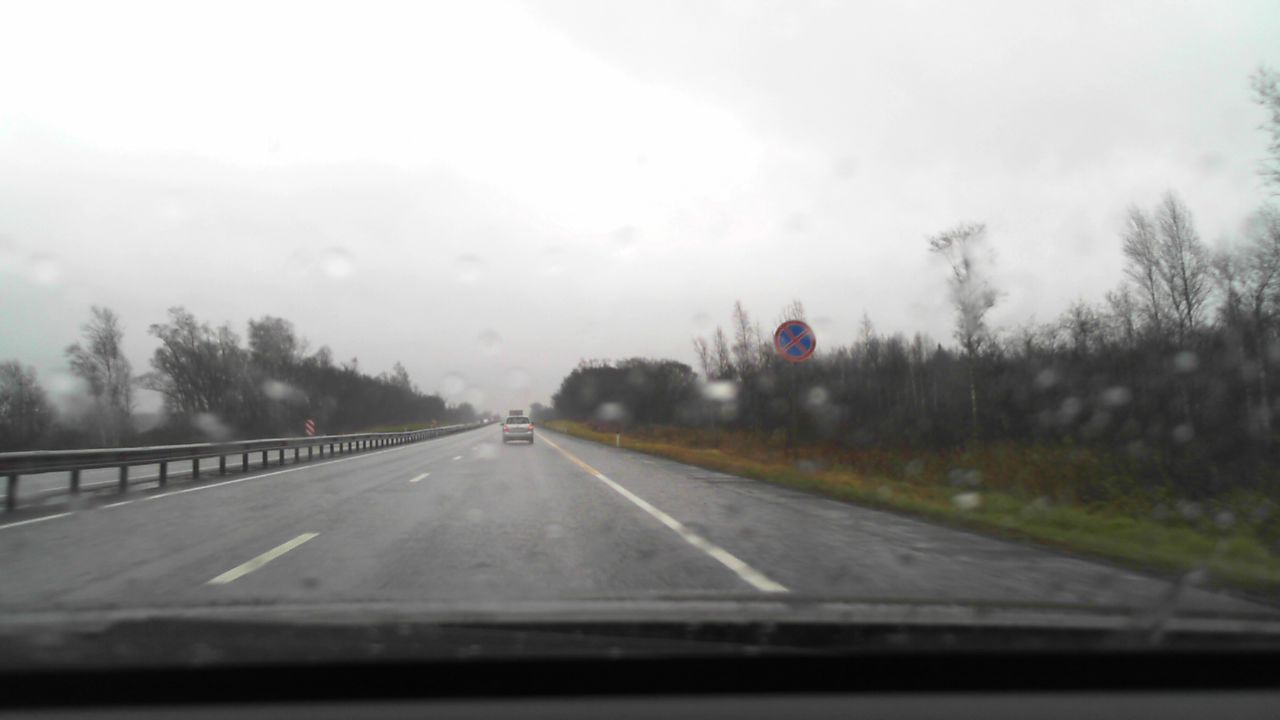No Parking: (774, 319, 816, 362)
